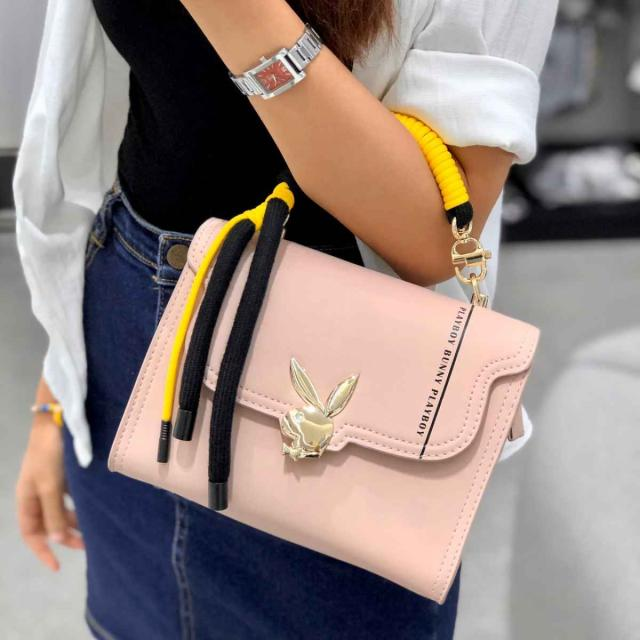Handbag: (98, 221, 547, 611)
